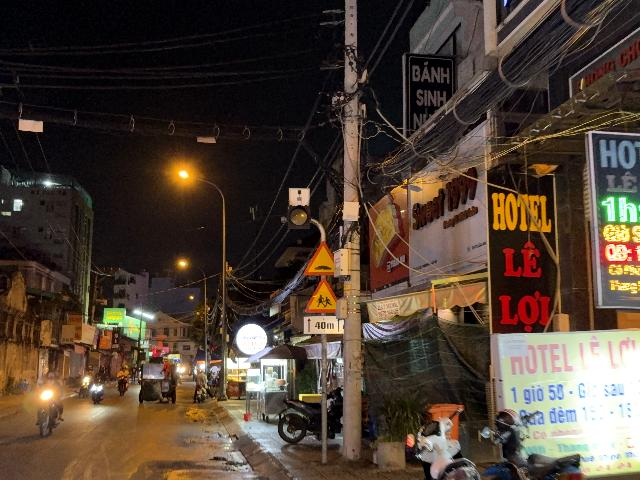duong-co-go-giam-toc: (302, 241, 335, 275)
tre-em-qua-duong: (305, 278, 338, 313)
